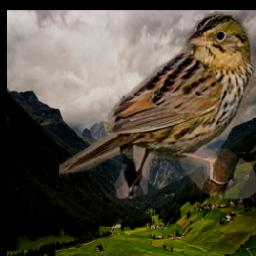Sparrow: (59, 11, 256, 199)
